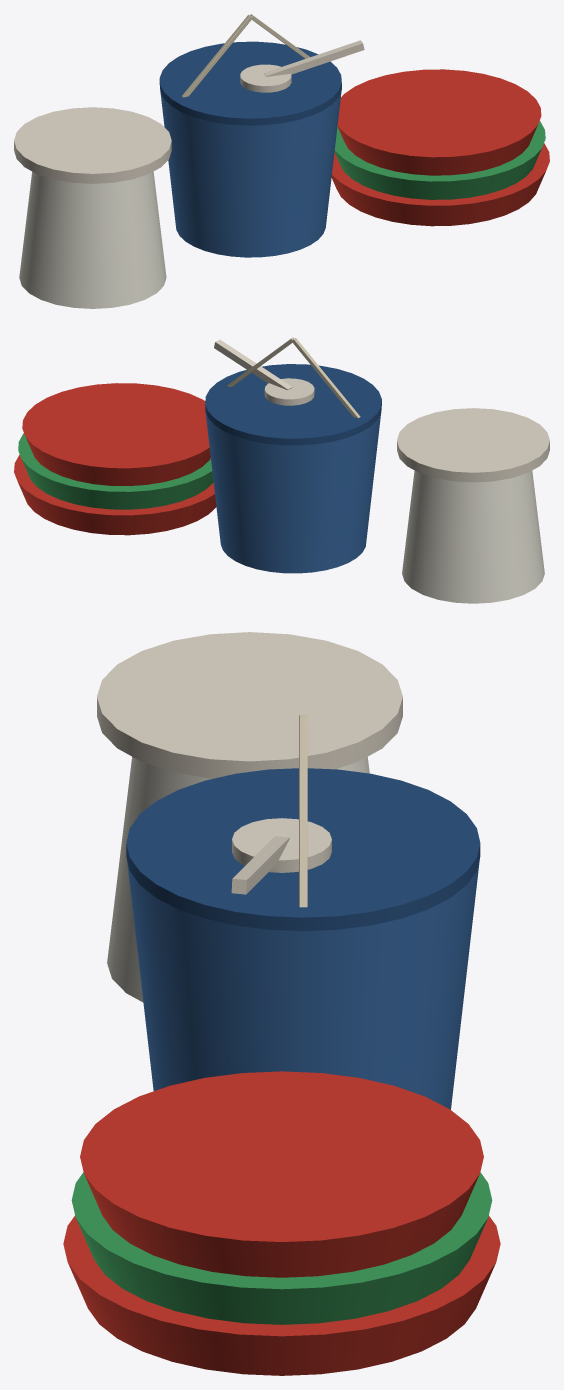
Rendered from BoXoGauChau_WC.glb.
3 renders of one model, top to bottom at view 1: azimuth 30°, elevation 25°; view 2: azimuth 150°, elevation 25°; view 3: azimuth 270°, elevation 25°, orthographic. The views are drawn at different scales.
Visible parts, largest first — view 1: BoXoGauChau_WC; view 2: BoXoGauChau_WC; view 3: BoXoGauChau_WC.
Boxes of the visible parts, bbox=[...] form: BoXoGauChau_WC: bbox=[14, 14, 549, 308]; BoXoGauChau_WC: bbox=[14, 337, 549, 603]; BoXoGauChau_WC: bbox=[63, 632, 500, 1375].
Size of the model in its own units: 1.09 by 0.4226 by 0.4093.
